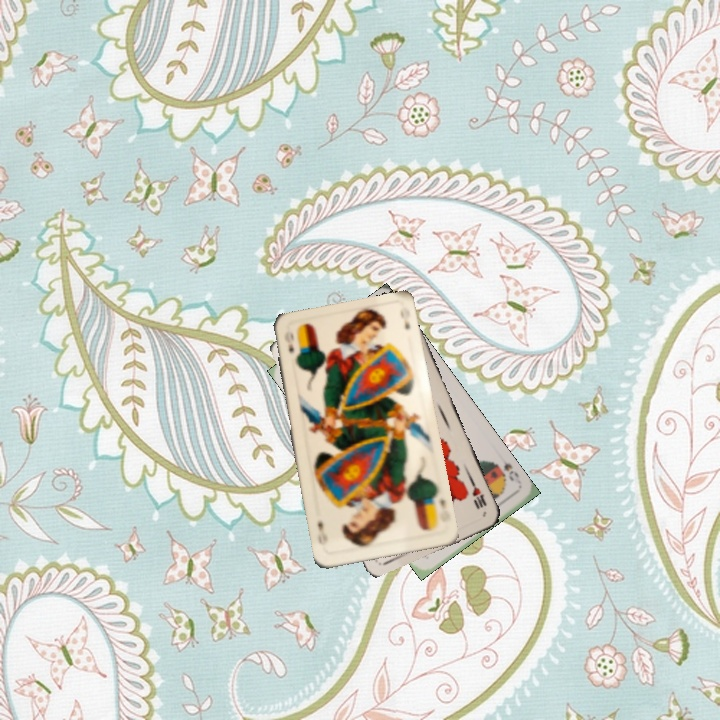EO: (428, 490, 452, 525), (280, 326, 296, 356)
H10: (466, 475, 489, 511)
SO: (489, 451, 522, 484)
